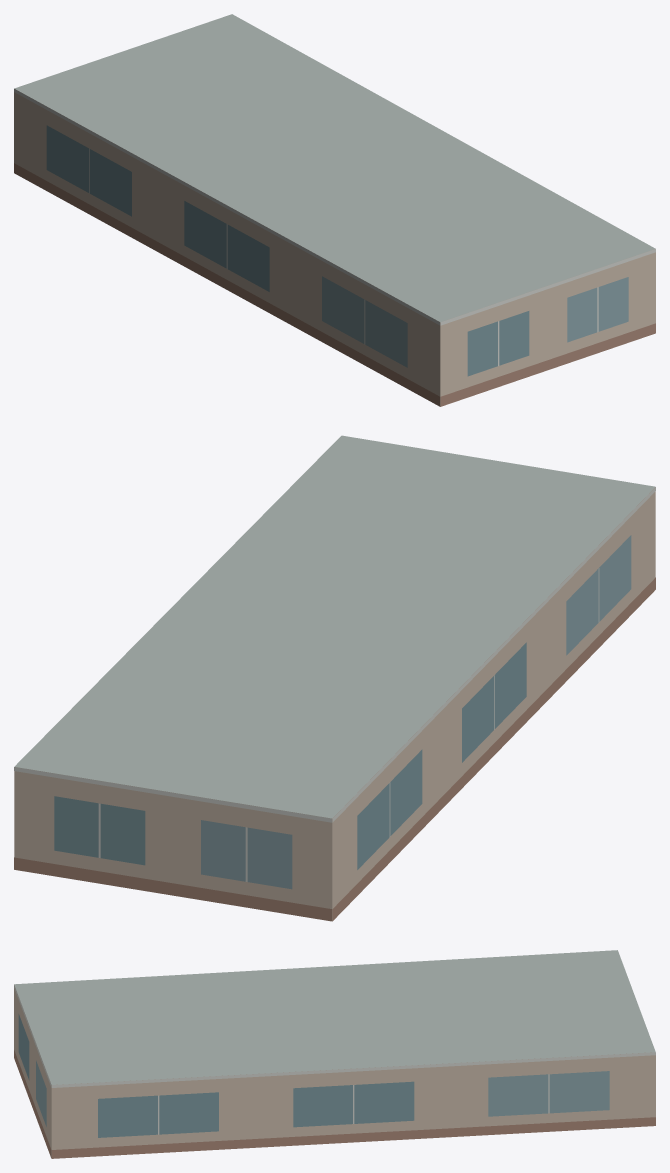
Rendered from survey-upis-32613126.glb.
3 views of the same model, one above another, from view 1: azimuth 30°, elevation 25°; view 2: azimuth 150°, elevation 25°; view 3: azimuth 270°, elevation 25° (orthographic). The views are drawn at different scales.
Visible parts, largest first — view 1: survey-upis-32613126.tmp; view 2: survey-upis-32613126.tmp; view 3: survey-upis-32613126.tmp.
Part boxes in pixels (x1,y1,x2,y2): survey-upis-32613126.tmp: (14,14,655,406); survey-upis-32613126.tmp: (14,435,655,921); survey-upis-32613126.tmp: (14,950,655,1158).
Bounding box in the file's own units: 11.98 × 3.05 × 24.05.
